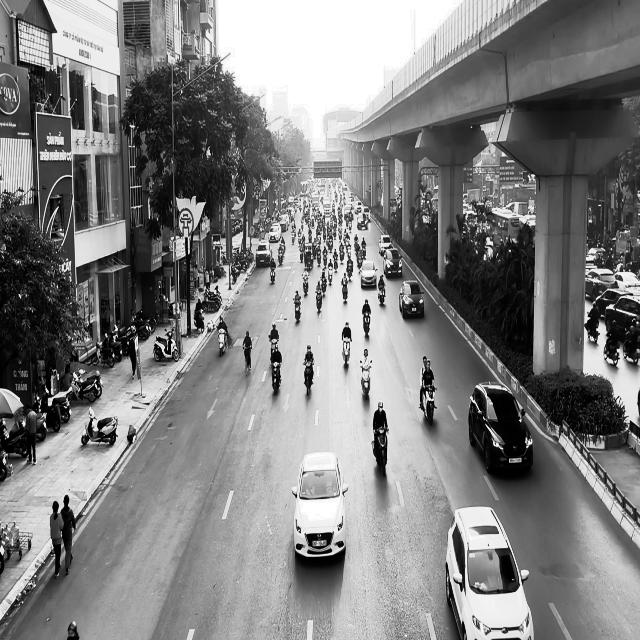car: (445, 506, 534, 640), (292, 451, 348, 561), (468, 381, 533, 474), (399, 279, 424, 318), (359, 260, 378, 288), (383, 248, 402, 276)
motorbike: (81, 406, 118, 446), (371, 426, 389, 476), (153, 328, 179, 362), (420, 384, 436, 425), (359, 359, 372, 400), (303, 360, 314, 396), (270, 360, 281, 395), (217, 328, 227, 356), (342, 336, 351, 366), (243, 346, 252, 376), (293, 297, 301, 323), (362, 311, 370, 336), (378, 283, 386, 305)
